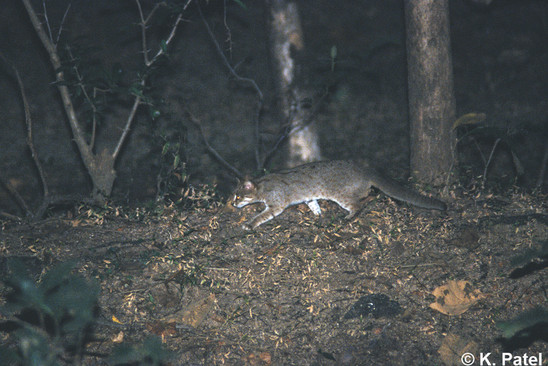cat: (224, 155, 457, 229)
